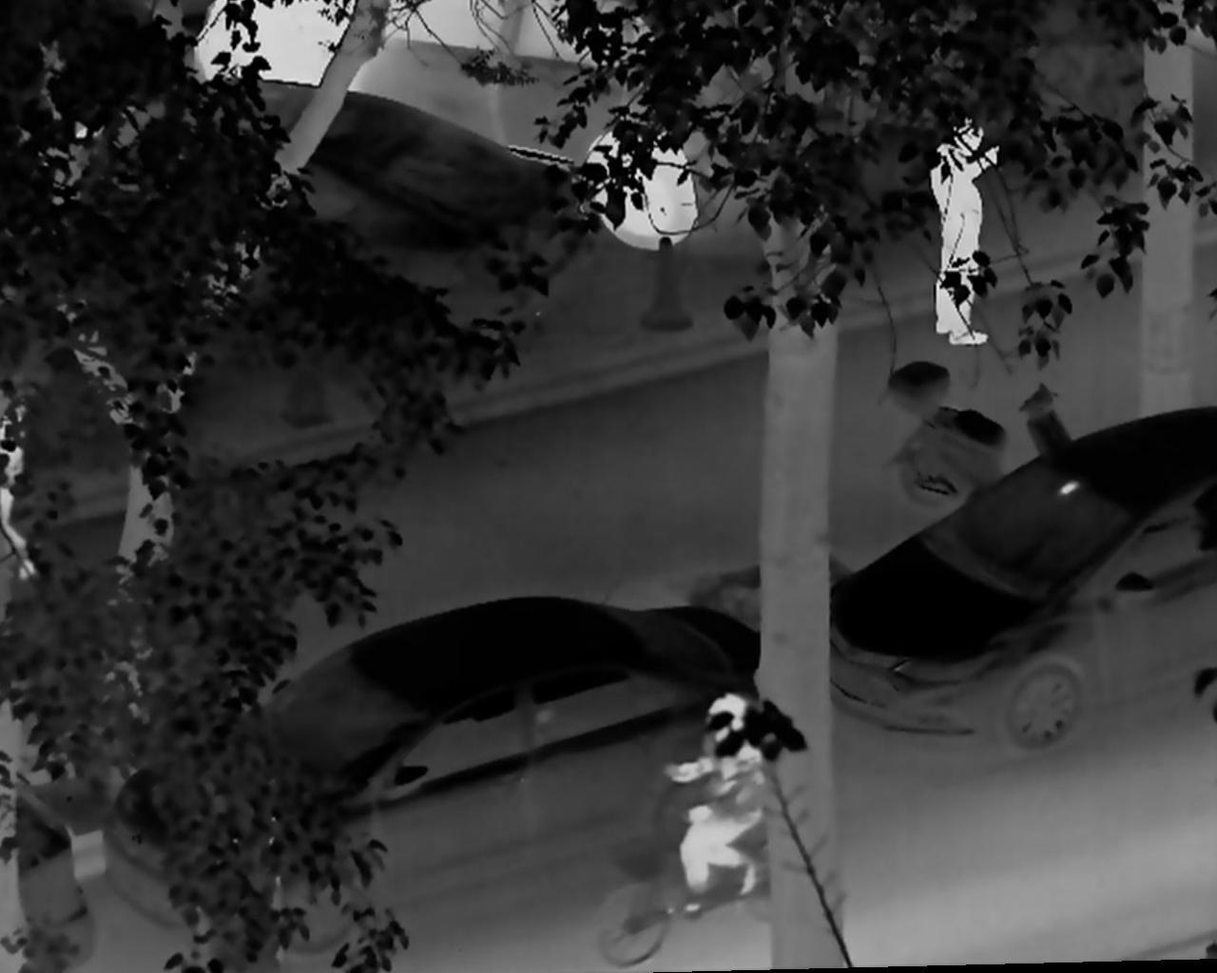person: (652, 689, 764, 921), (927, 115, 1004, 348)
